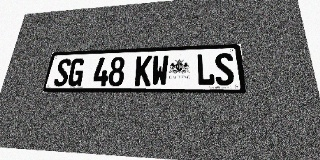4: (92, 57, 111, 86)
8: (108, 57, 126, 86)
G: (67, 58, 86, 86)
K: (134, 56, 152, 86)
L: (196, 53, 215, 86)
S: (214, 53, 235, 86), (53, 59, 72, 86)
W: (151, 55, 169, 86)
